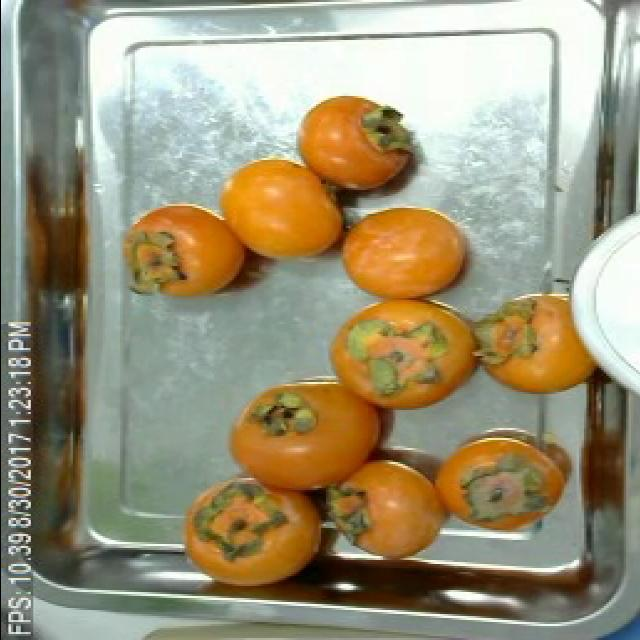Fruit: (307, 288, 498, 428), (424, 410, 588, 548), (462, 276, 620, 410), (322, 196, 487, 312), (280, 84, 432, 206), (107, 194, 253, 312), (204, 146, 342, 268)
